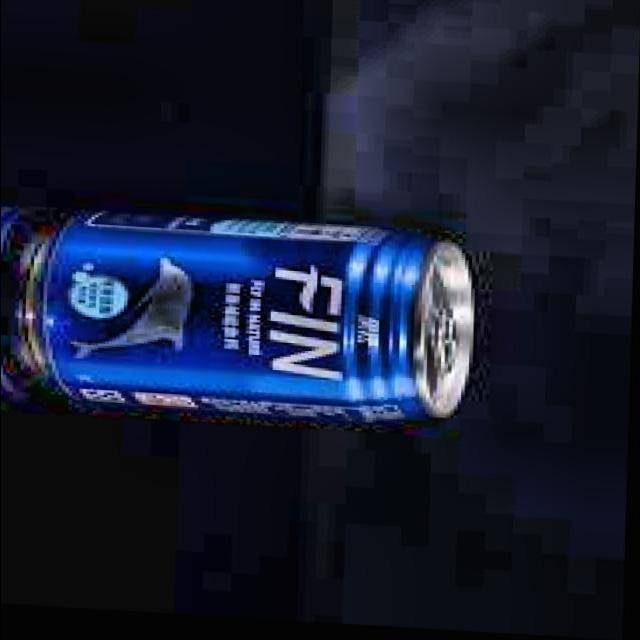Aluminum Can: (0, 203, 491, 436)
